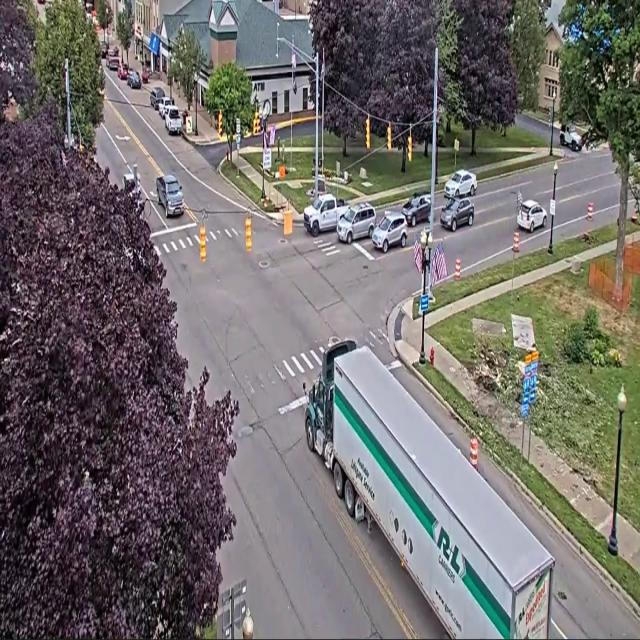car: (337, 203, 375, 244), (372, 212, 407, 253), (156, 175, 184, 216), (440, 199, 474, 231), (401, 193, 431, 227), (445, 169, 477, 198), (517, 200, 546, 232), (560, 124, 582, 151), (165, 107, 183, 135), (123, 173, 141, 201), (149, 86, 165, 110), (158, 96, 174, 119), (127, 70, 141, 88), (107, 53, 119, 71), (140, 66, 150, 84), (118, 64, 128, 79), (101, 41, 108, 59), (108, 47, 119, 57)
traffic signal: (245, 216, 252, 252), (200, 225, 206, 262), (386, 124, 392, 150), (253, 112, 259, 135), (366, 117, 370, 149), (408, 135, 412, 161), (218, 111, 222, 135)
truck: (303, 341, 554, 638), (303, 193, 348, 237)
